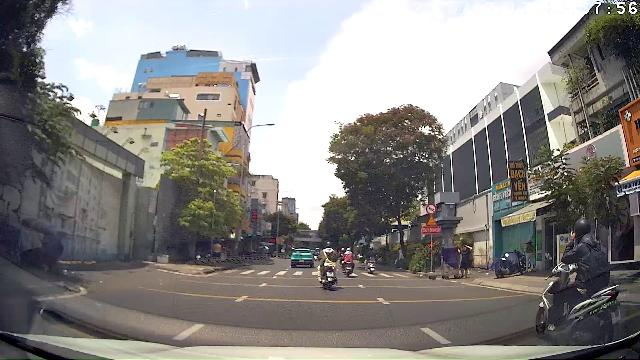128-cam-su-dung-coi: (427, 204, 438, 214)
